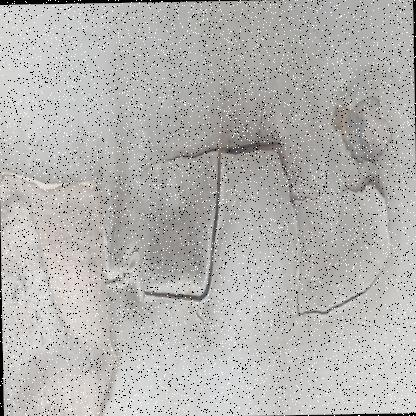Crack: (137, 68, 415, 368), (0, 137, 142, 415)
